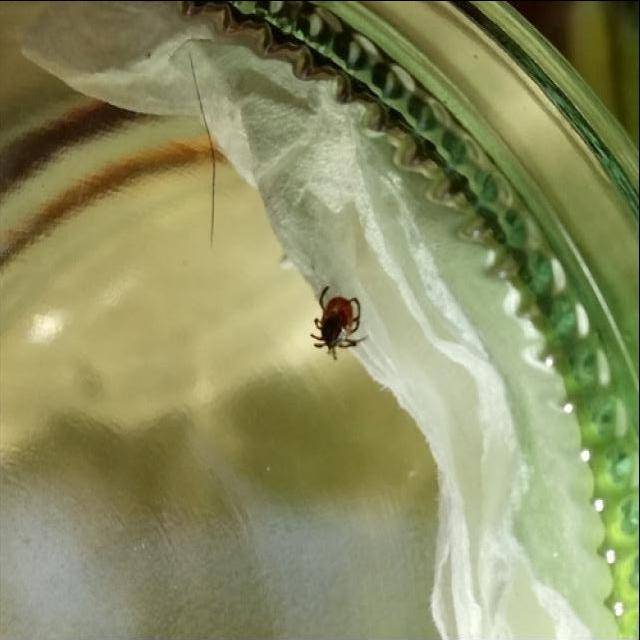Ixodes Ricinus-F: (314, 294, 367, 359)
